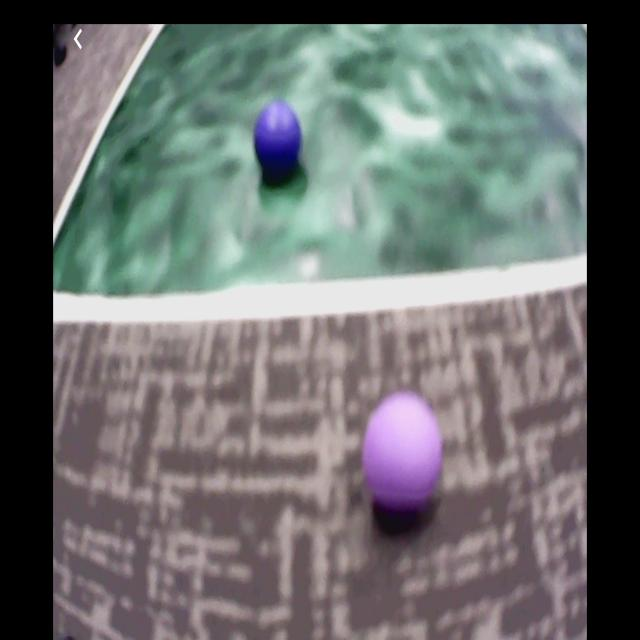ball: (365, 394, 442, 508), (255, 102, 301, 173)
